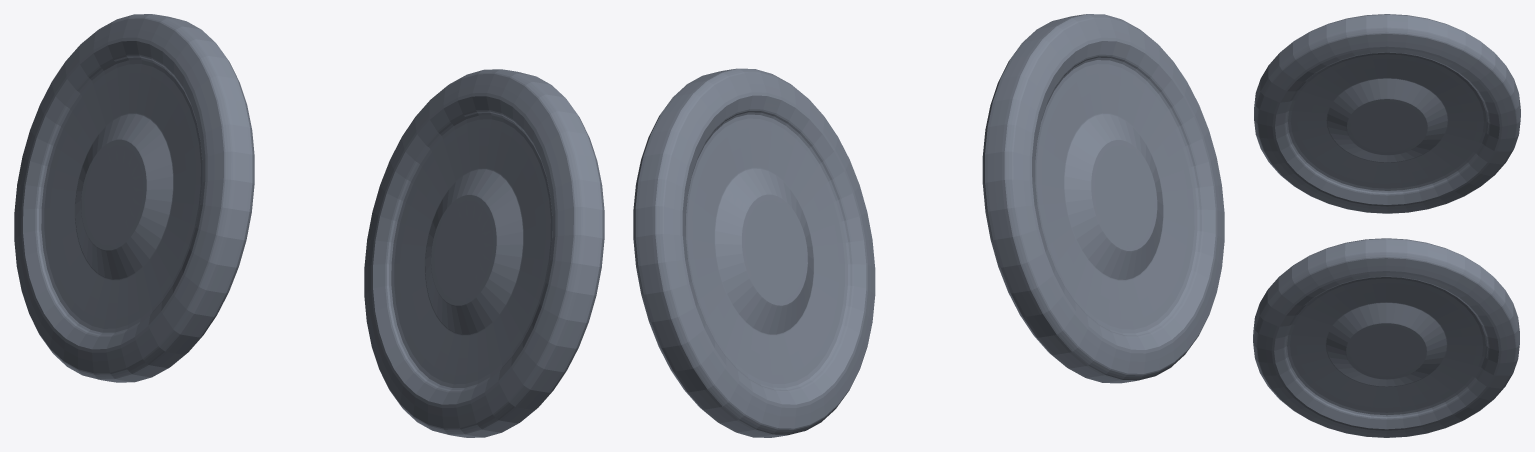
File: weight_7_1.obj
3 renders of one model, left to right at view 1: azimuth 30°, elevation 25°; view 2: azimuth 150°, elevation 25°; view 3: azimuth 270°, elevation 25°, orthographic. The views are drawn at different scales.
Size of the model in its own units: 0.9292 by 0.8328 by 0.6078.
